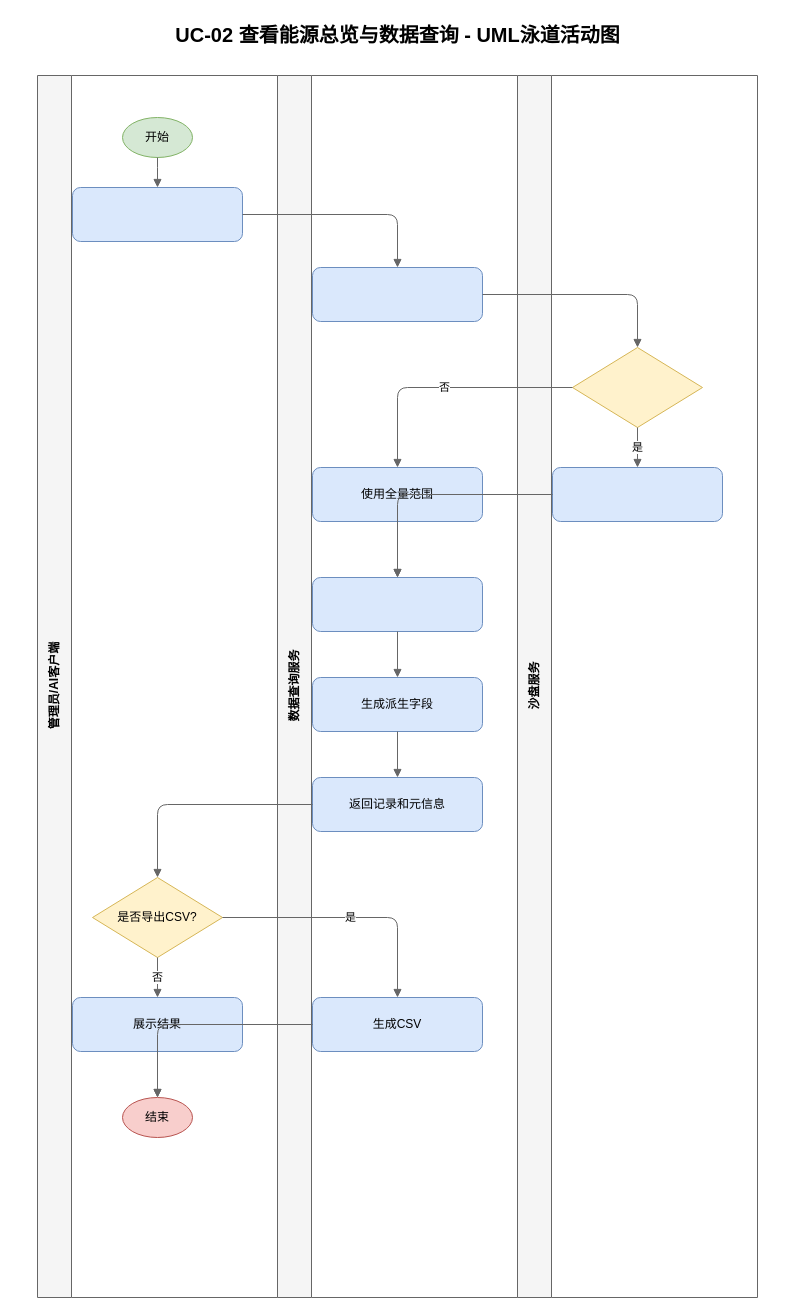
Some shapes in this 794 by 1315 pixel diagram are drawn without their labels. Each missing label, with the centre of its shape:
"发起查询" belongs at (157,214).
"执行记录查询" belongs at (397,604).
"沙盘启用?" belongs at (637,387).
"读取筛选条件" belongs at (397,294).
"追加业务日期过滤" belongs at (637,494).
